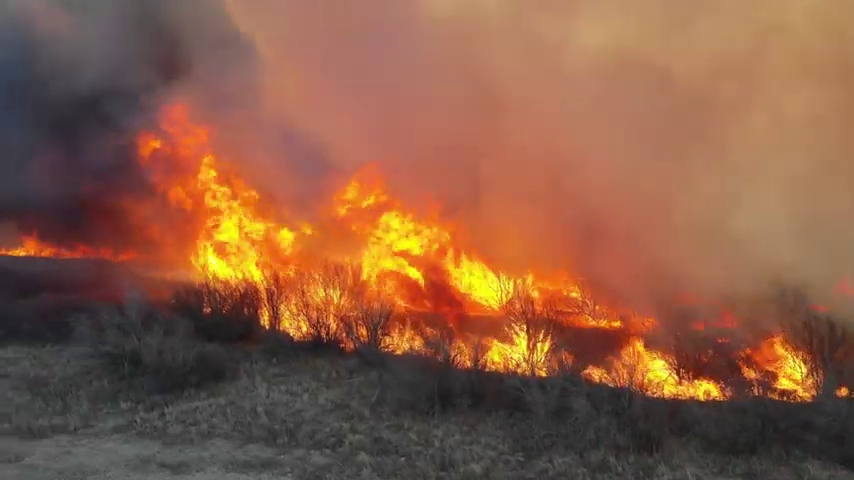forest_fire: (137, 104, 821, 399), (0, 231, 145, 260), (263, 305, 304, 335), (388, 324, 423, 351), (832, 381, 849, 395), (840, 282, 849, 293), (316, 306, 319, 308), (139, 206, 144, 207), (302, 305, 303, 306)
